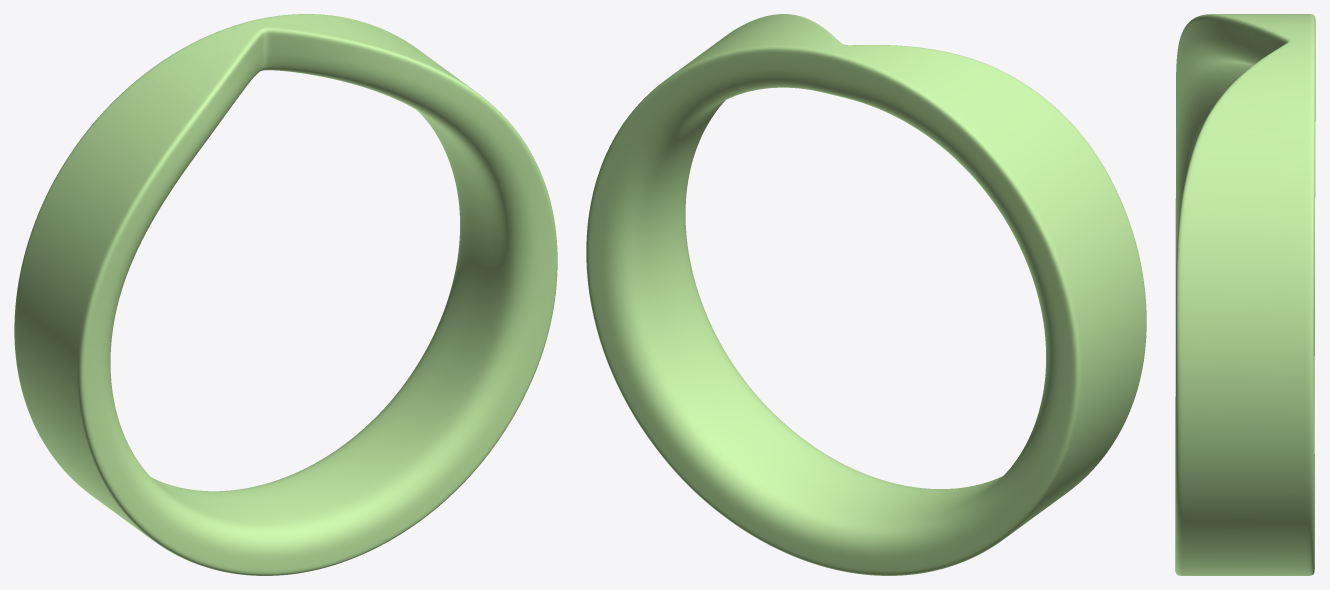
File: BE2724_RENDER.glb
3 renders of one model, left to right at view 1: azimuth 30°, elevation 25°; view 2: azimuth 150°, elevation 25°; view 3: azimuth 270°, elevation 25°, orthographic. The views are drawn at different scales.
Visible parts, largest first — view 1: Metal03; view 2: Metal03; view 3: Metal03.
Boxes of the visible parts, bbox=[...] form: Metal03: bbox=[14, 14, 557, 575]; Metal03: bbox=[586, 14, 1146, 575]; Metal03: bbox=[1175, 14, 1315, 575].
Bounding box in the file's own units: 20.13 × 20.13 × 5.03.
